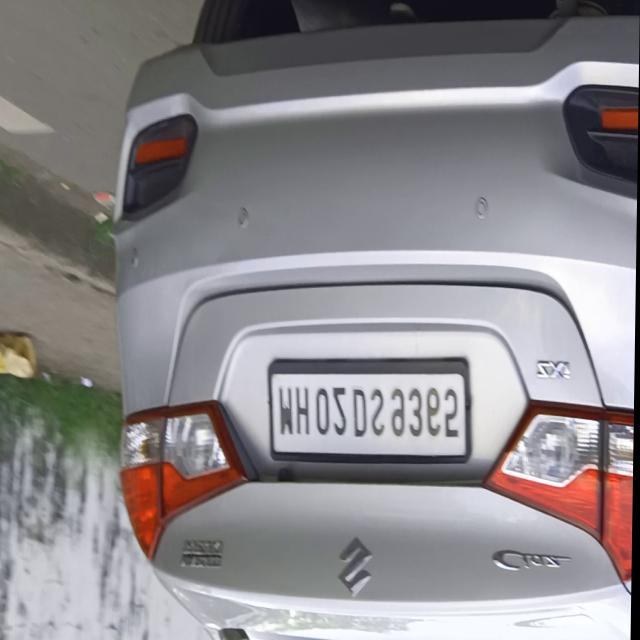plate: (268, 359, 473, 465)
